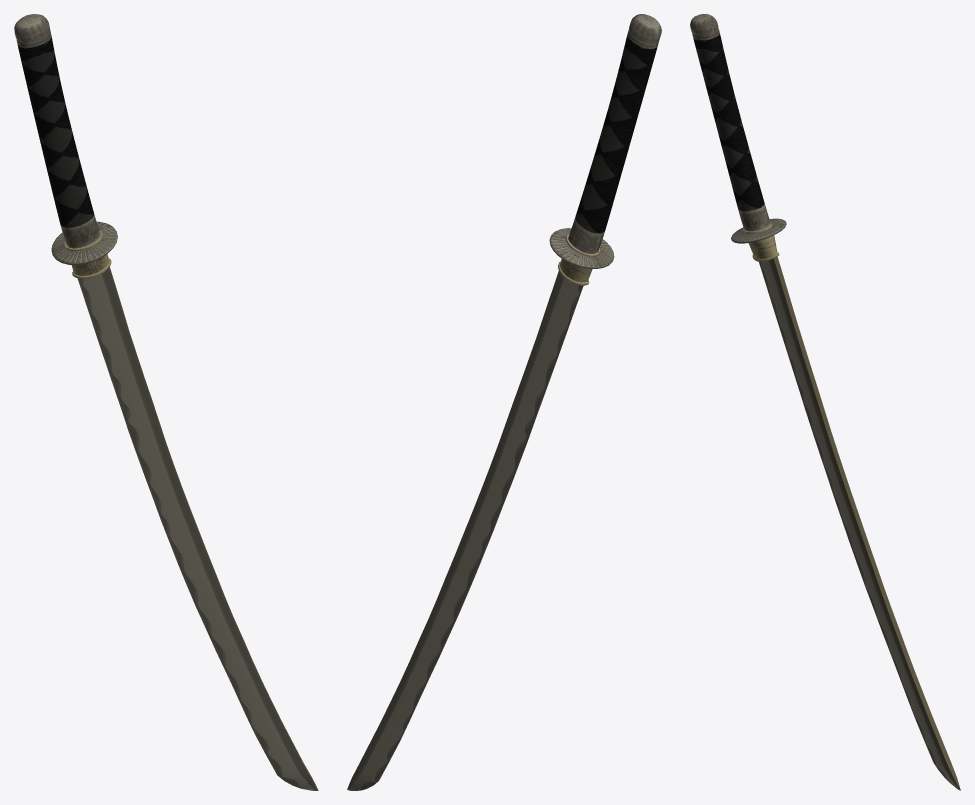
The model's file is katana.glb.
3 views of the same model, side by side, from view 1: azimuth 30°, elevation 25°; view 2: azimuth 150°, elevation 25°; view 3: azimuth 330°, elevation 25° (orthographic). The views are drawn at different scales.
Visible parts, largest first — view 1: Katana_0; view 2: Katana_0; view 3: Katana_0.
Part boxes in pixels (x1,y1,x2,y2): Katana_0: (14, 14, 318, 790); Katana_0: (347, 14, 661, 790); Katana_0: (690, 14, 960, 790).
Bounding box in the file's own units: 0.395 × 1.04 × 0.0754.
Materials: 4 (4 with a texture image).
